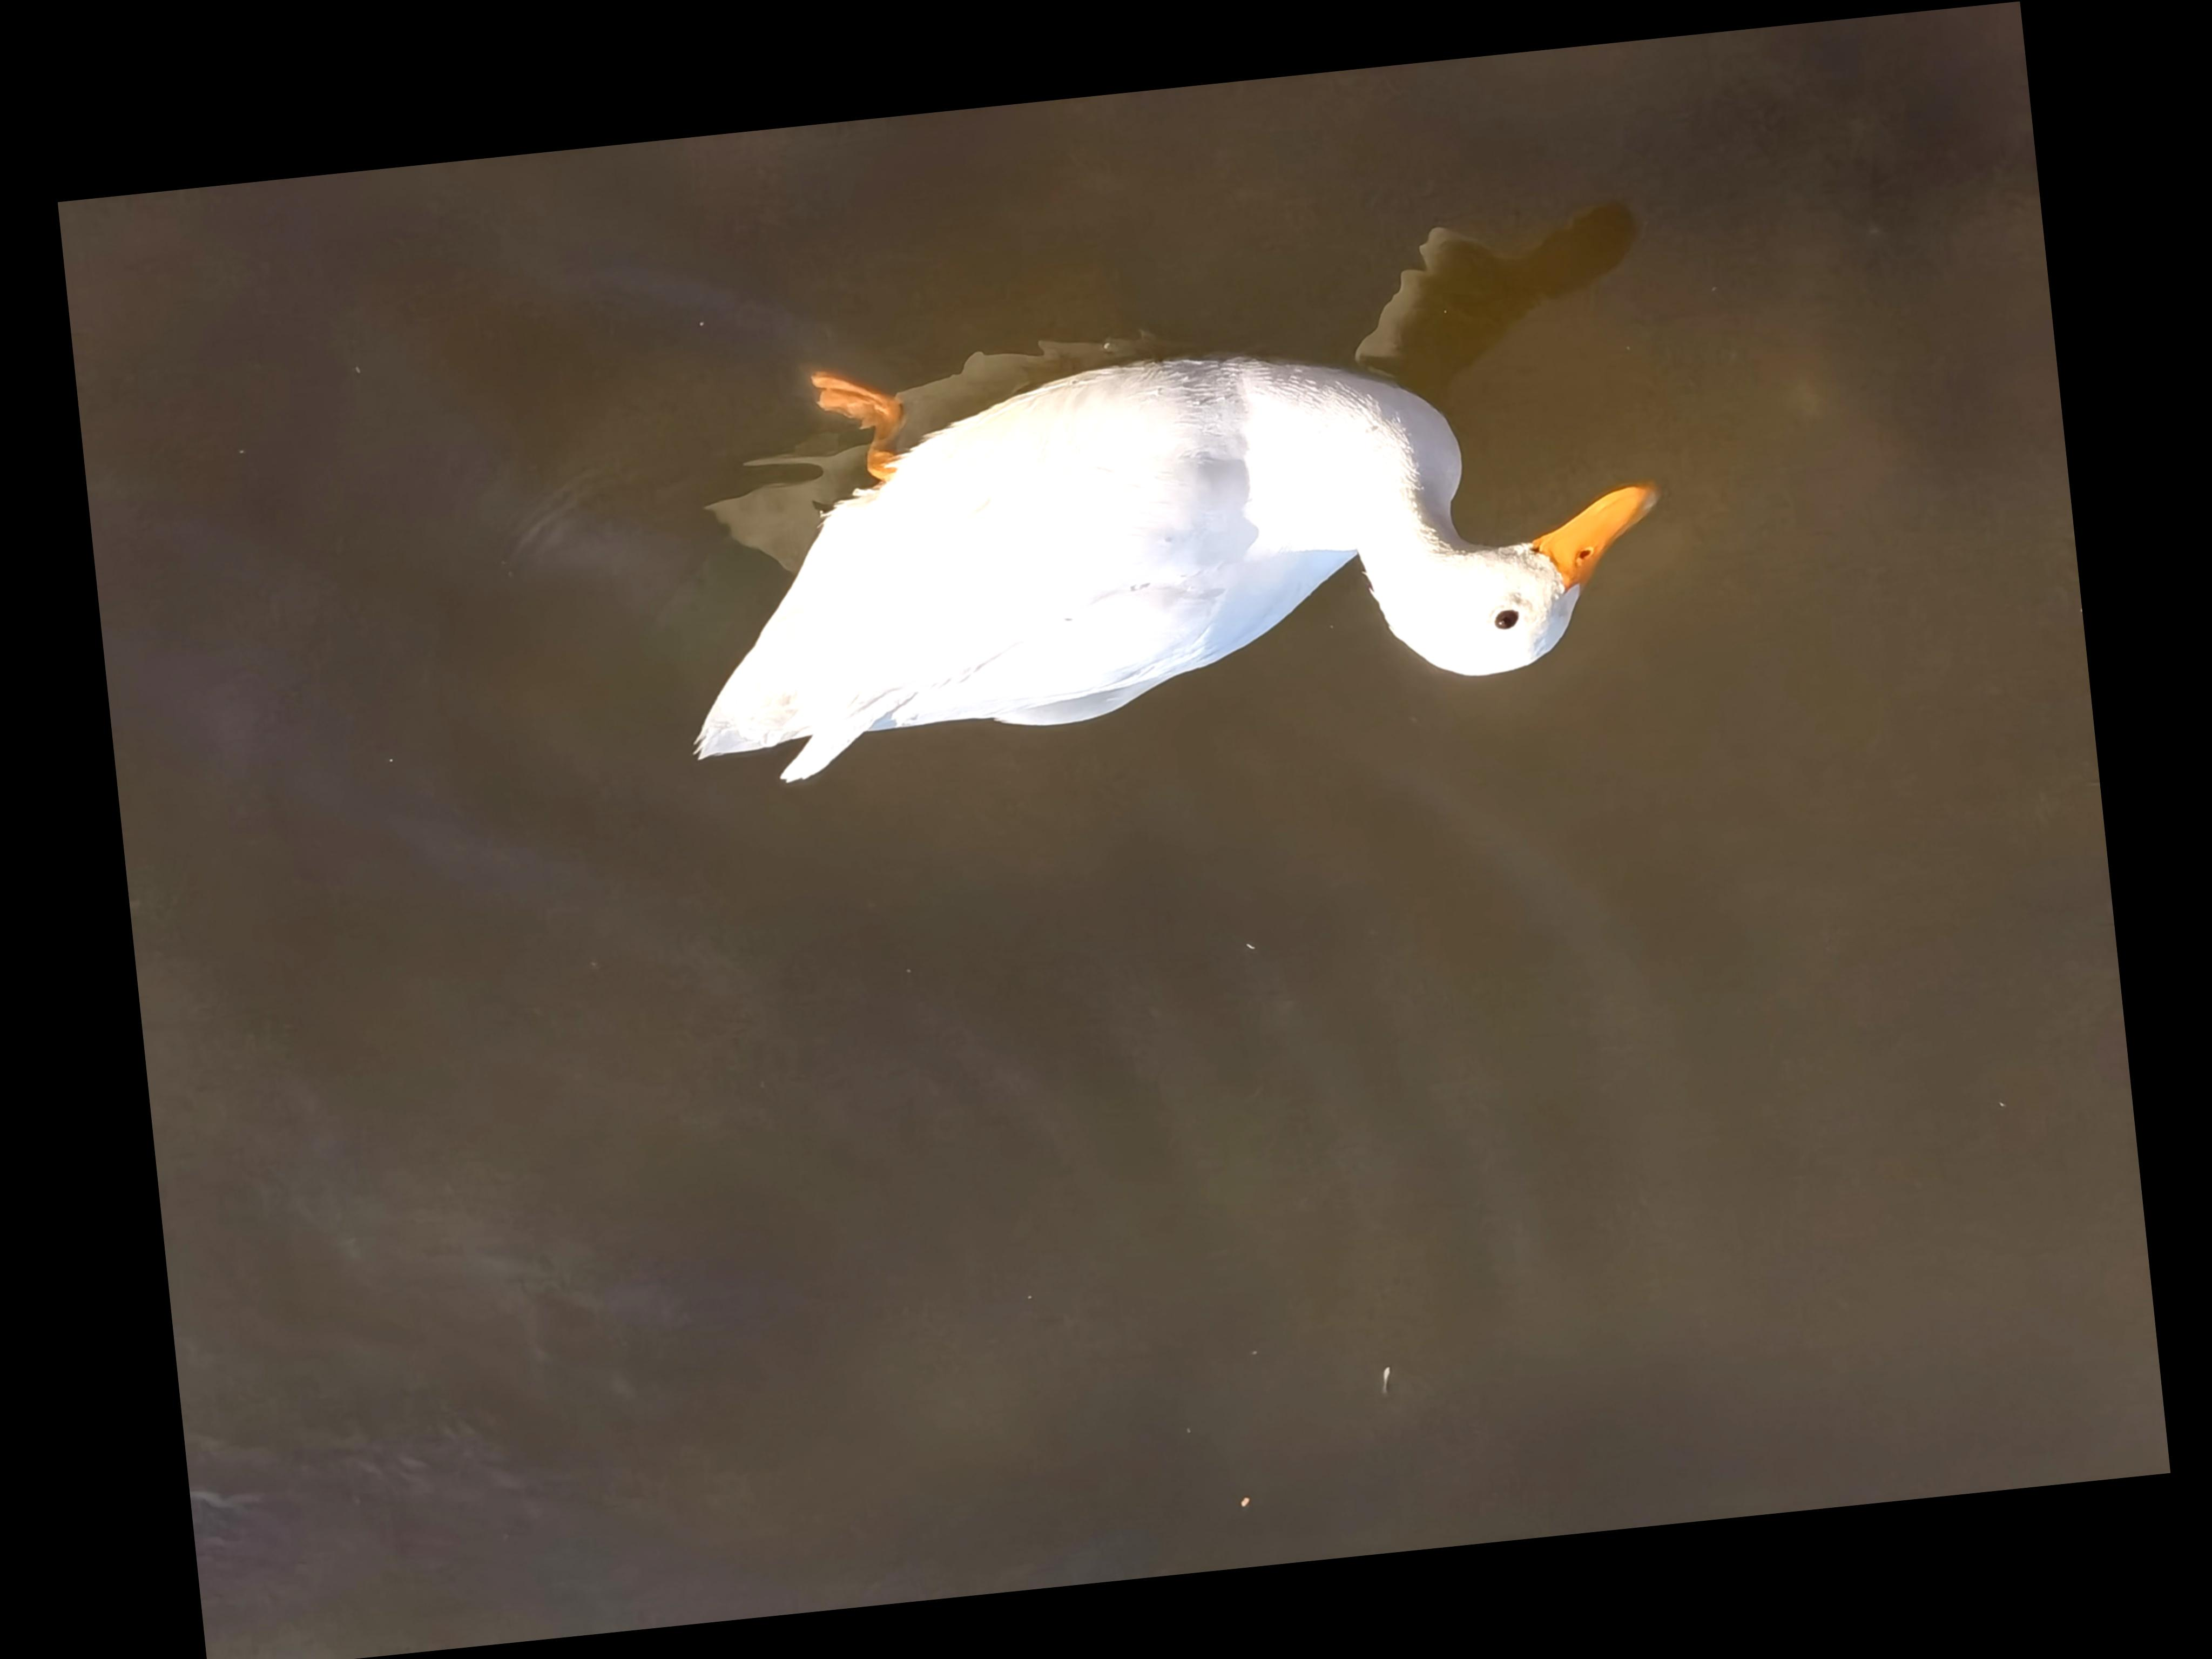duck: (622, 253, 1700, 789)
